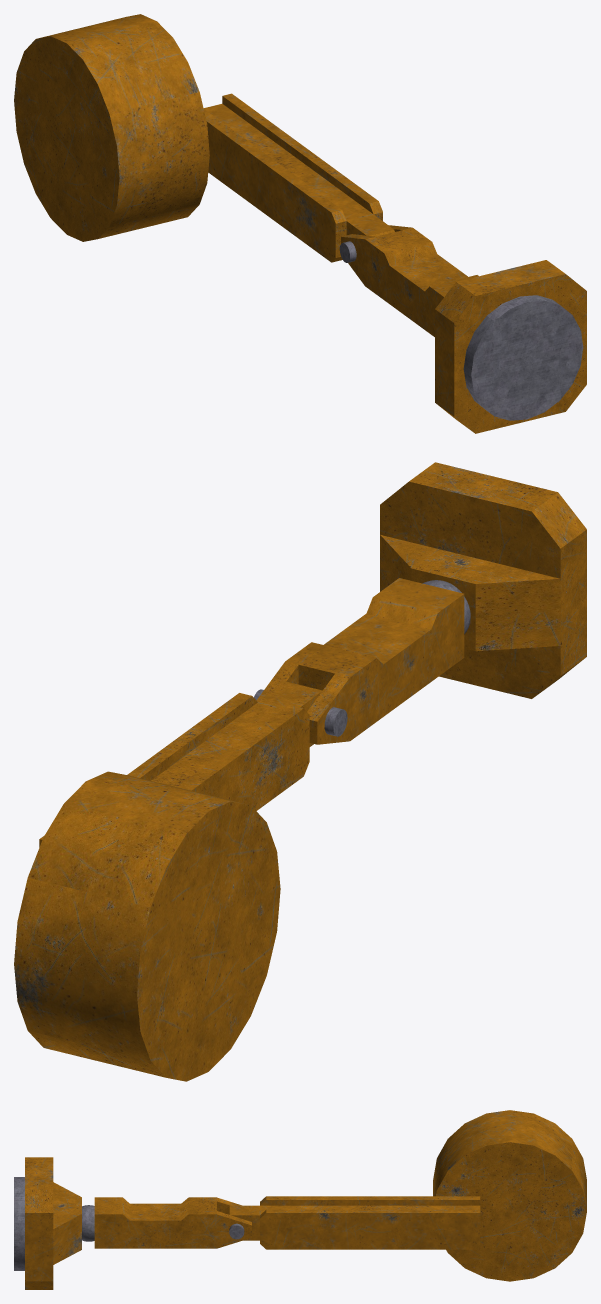
File: MechLeftArm.fbx
3 views of the same model, one above another, from view 1: azimuth 30°, elevation 25°; view 2: azimuth 150°, elevation 25°; view 3: azimuth 270°, elevation 25° (orthographic). The views are drawn at different scales.
Visible parts, largest first — view 1: Shoulder, Bicep, Magnet, Hand, Forearm; view 2: Shoulder, Hand, Forearm, Bicep; view 3: Shoulder, Bicep, Forearm, Hand, Magnet, Wrist.
Boxes of the visible parts, x1,y1,x2,y2 form: Shoulder: [14, 14, 209, 241]; Bicep: [203, 93, 394, 262]; Magnet: [463, 295, 583, 420]; Hand: [435, 260, 586, 433]; Forearm: [341, 225, 478, 336]; Shoulder: [14, 771, 280, 1081]; Hand: [380, 462, 586, 698]; Forearm: [256, 578, 464, 744]; Bicep: [39, 682, 322, 847]; Shoulder: [433, 1110, 586, 1281]; Bicep: [222, 1196, 480, 1249]; Forearm: [94, 1197, 251, 1248]; Hand: [25, 1157, 81, 1289]; Magnet: [14, 1177, 24, 1270]; Wrist: [82, 1205, 94, 1241].
Bounding box in the file's own units: 1.14 × 1.11 × 4.13.
